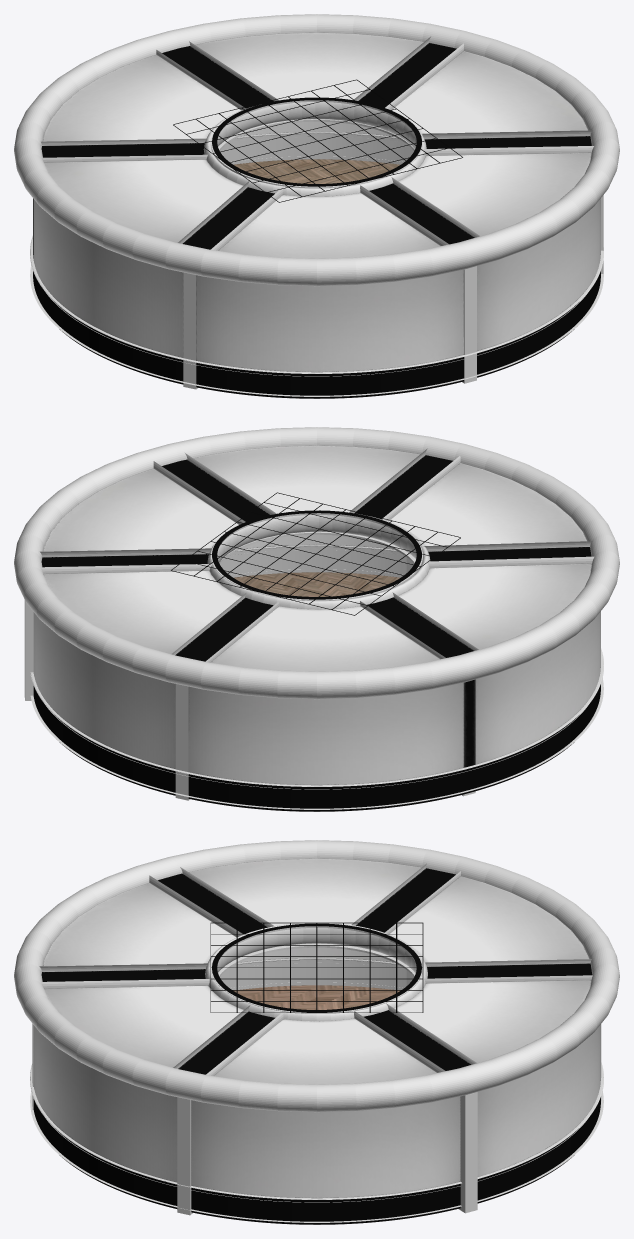
Rendered from env-goethe.glb.
3 views of the same model, one above another, from view 1: azimuth 30°, elevation 25°; view 2: azimuth 150°, elevation 25°; view 3: azimuth 270°, elevation 25° (orthographic).
Parts seen in each view (by area): view 1: Circle.001, Circle.002, Torus.002, Torus, Circle.010, Plane.002, Circle.006, Circle.007, Cube.005, Cube.004, Cube.001, Circle.005 (+6 smaller); view 2: Circle.001, Circle.002, Torus.002, Torus, Circle.010, Plane.002, Cube.006, Circle.006, Circle.007, Cube.002, Cube.004, Circle.005 (+6 smaller); view 3: Circle.001, Circle.002, Torus.002, Torus, Circle.010, Plane.002, Cube.006, Circle.006, Circle.007, Cube.001, Cube.005, Circle.005 (+6 smaller).
Boxes of the visible parts, x1,y1,x2,y2 form: Circle.001: [41, 32, 591, 258]; Circle.002: [33, 121, 600, 398]; Torus.002: [14, 14, 619, 286]; Torus: [203, 102, 426, 196]; Circle.010: [30, 137, 603, 373]; Plane.002: [173, 79, 462, 202]; Circle.006: [30, 132, 603, 376]; Circle.007: [63, 159, 577, 398]; Cube.005: [360, 177, 479, 383]; Cube.004: [178, 181, 283, 389]; Cube.001: [422, 130, 603, 273]; Circle.005: [30, 156, 603, 398]; Circle.001: [41, 445, 591, 671]; Circle.002: [33, 534, 600, 811]; Torus.002: [14, 427, 619, 699]; Torus: [207, 514, 430, 609]; Circle.010: [30, 550, 603, 786]; Plane.002: [171, 492, 460, 615]; Cube.006: [24, 548, 212, 700]; Circle.006: [30, 545, 603, 789]; Circle.007: [56, 572, 570, 811]; Cube.002: [171, 593, 279, 800]; Cube.004: [423, 541, 594, 568]; Circle.005: [30, 569, 603, 811]; Circle.001: [41, 858, 592, 1084]; Circle.002: [33, 947, 600, 1224]; Torus.002: [14, 840, 619, 1112]; Torus: [205, 923, 427, 1021]; Circle.010: [30, 963, 603, 1199]; Plane.002: [210, 922, 423, 1012]; Cube.006: [354, 1003, 477, 1213]; Circle.006: [30, 958, 603, 1202]; Circle.007: [96, 985, 537, 1224]; Cube.001: [173, 1005, 283, 1215]; Cube.005: [32, 963, 209, 1110]; Circle.005: [30, 982, 603, 1224].
Bounding box in the file's own units: 13.68 × 3.57 × 13.68.
Materials: 15 (4 with a texture image).
